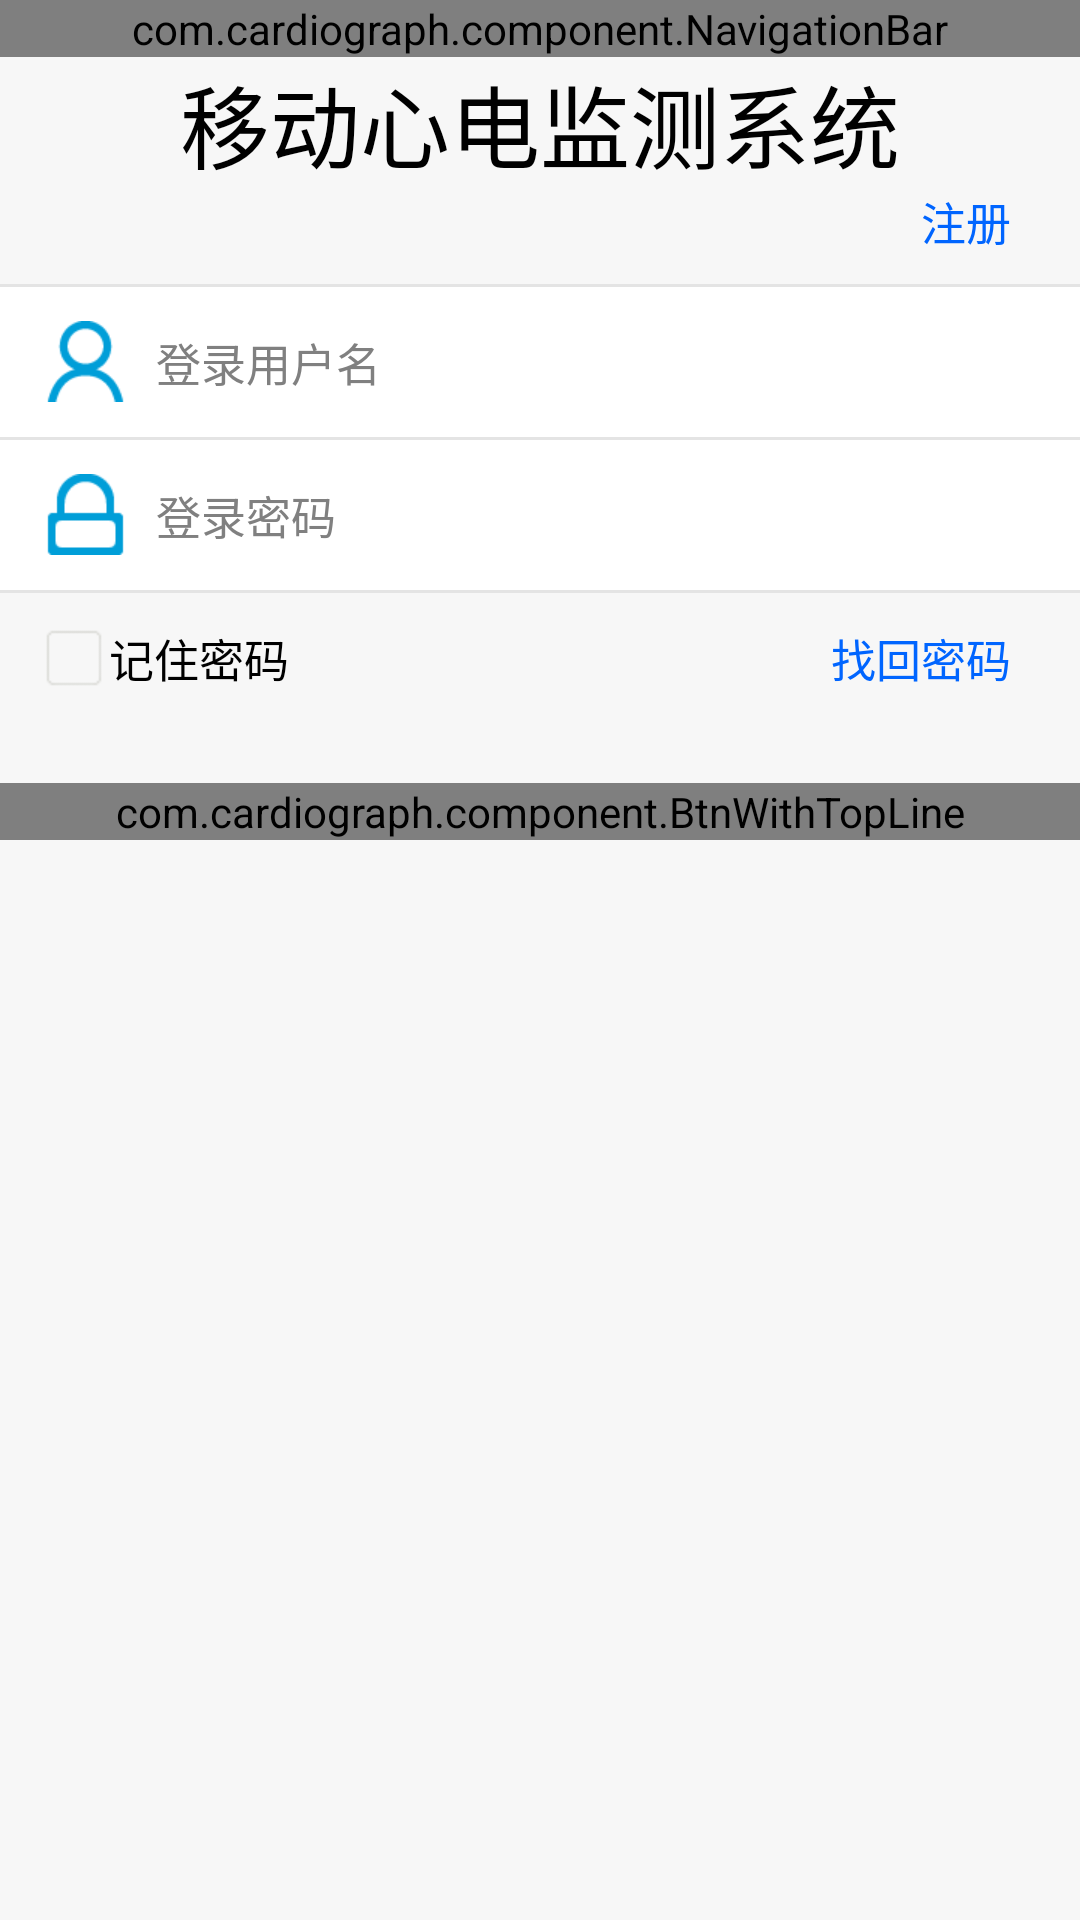

Locate icon controls on the screen. Image size 1080*1920, boxes as (x1, y1, x2, y2).
inputpw: (47, 474, 124, 555)
username: (47, 321, 124, 402)
